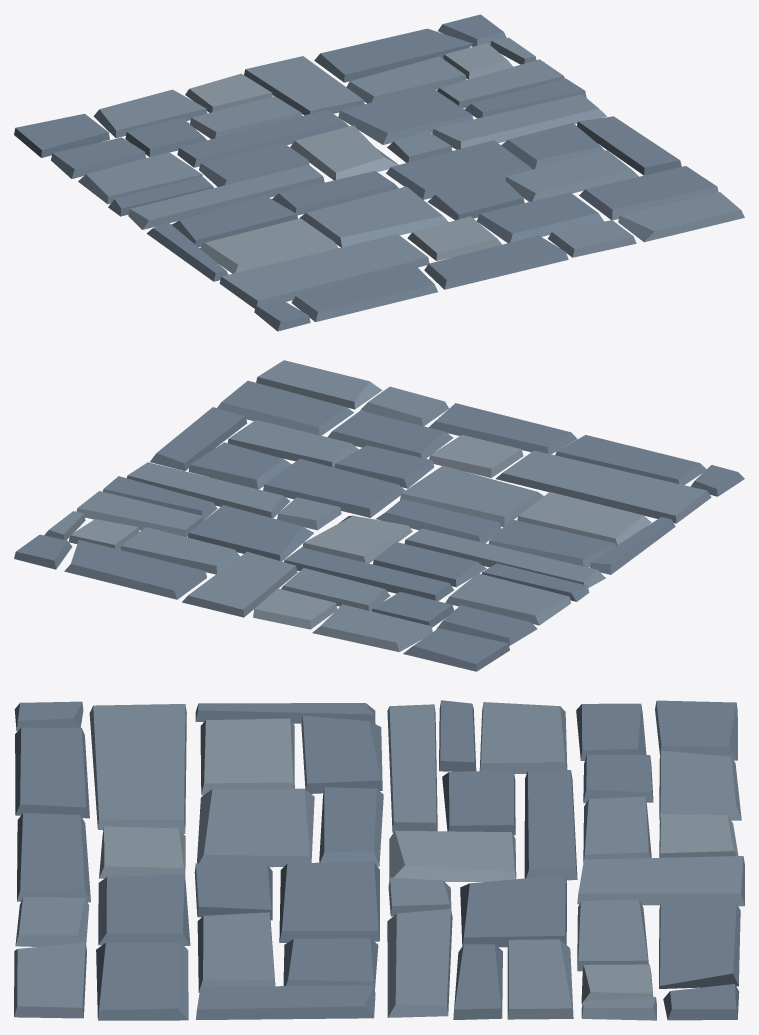
Rendered from StoneWalkway.glb.
The picture shows the model from 3 angles, top to bottom: view 1: azimuth 30°, elevation 25°; view 2: azimuth 150°, elevation 25°; view 3: azimuth 270°, elevation 25°; orthographic projection. The views are drawn at different scales.
Visible parts, largest first — view 1: walkway-stone; view 2: walkway-stone; view 3: walkway-stone.
Boxes of the visible parts, left/top/right/bottom form: walkway-stone: left=14, top=14, right=744, bottom=331; walkway-stone: left=14, top=360, right=744, bottom=671; walkway-stone: left=14, top=700, right=744, bottom=1020.
Bounding box in the file's own units: 1.87 × 0.0274 × 1.85.
1 material, 1 textured.
